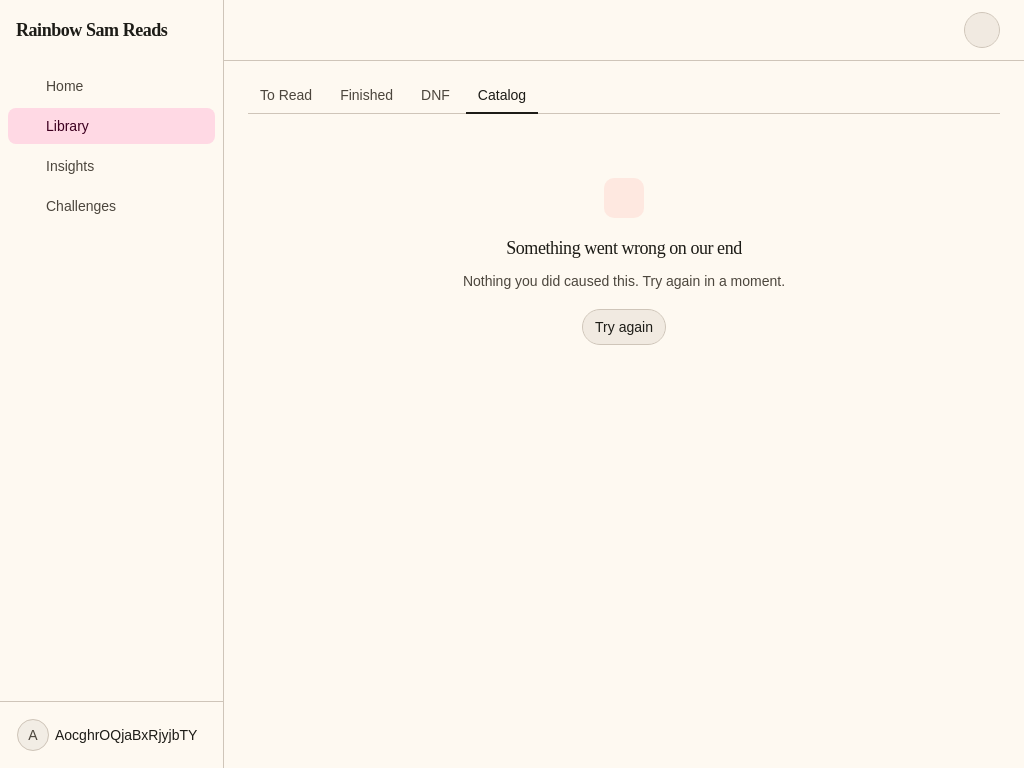
Test case: the route tree › recovers a failed shelf in place when Try again is pressed
Click the button "Try again".
click(624, 327)  # box [582,309,666,345]
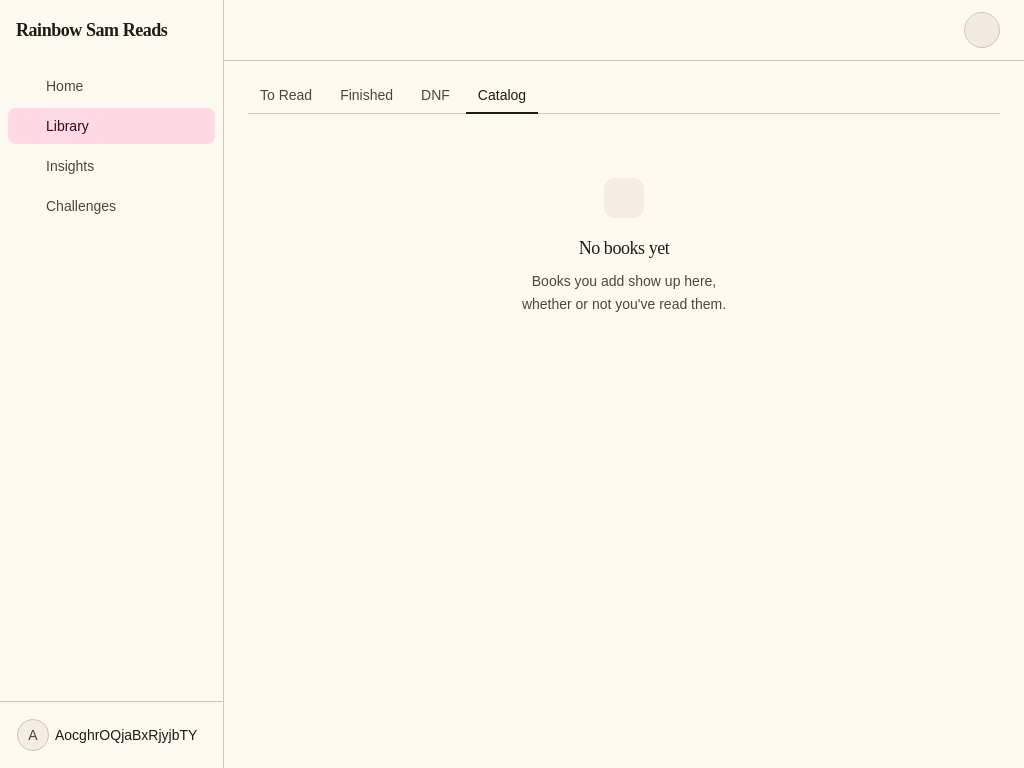
Expected: the text "No books yet" is shown, [579,234,669,262]
